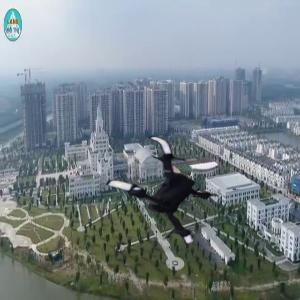drone: (105, 133, 233, 261)
